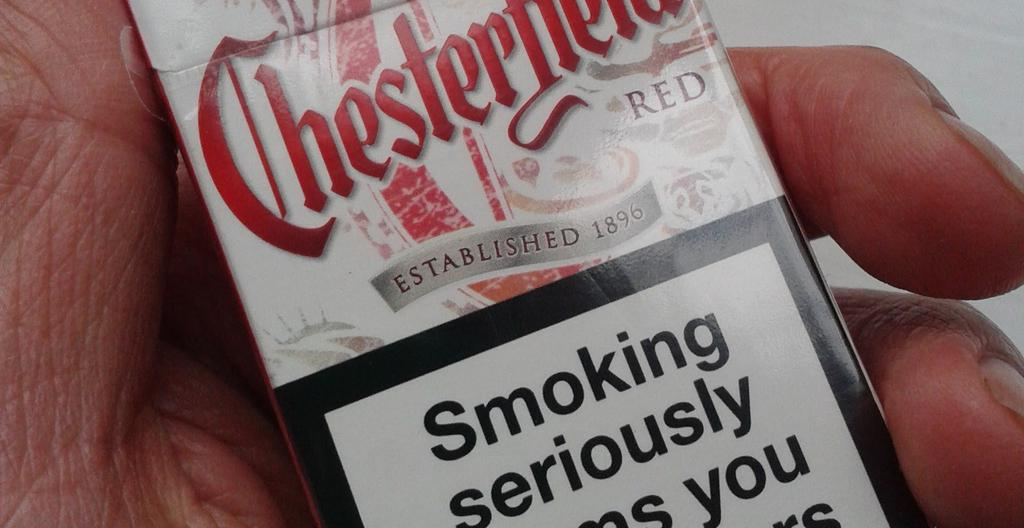chesterfield_red: (193, 1, 722, 528)
